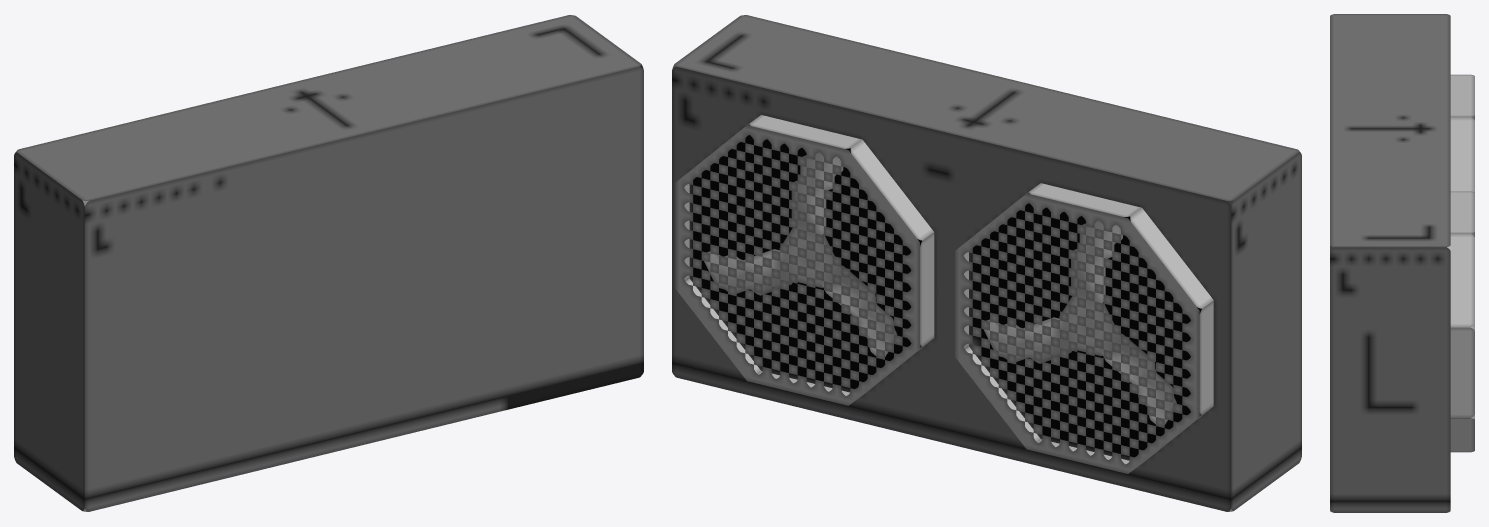
The model's file is AC_Unit.fbx.
The picture shows the model from 3 angles, left to right: view 1: azimuth 30°, elevation 25°; view 2: azimuth 150°, elevation 25°; view 3: azimuth 270°, elevation 25°; orthographic projection. The views are drawn at different scales.
Visible parts, largest first — view 1: Body; view 2: Body, FanCasing_1, FanCasing, Fan_1, Fan; view 3: Body, FanCasing_1, FanCasing.
Boxes of the visible parts, x1=… form: Body: x1=14, y1=15, x2=643, y2=511; Body: x1=672, y1=15, x2=1301, y2=511; FanCasing_1: x1=675, y1=115, x2=934, y2=405; FanCasing: x1=955, y1=183, x2=1213, y2=473; Fan_1: x1=983, y1=220, x2=1176, y2=424; Fan: x1=704, y1=152, x2=897, y2=356; Body: x1=1330, y1=14, x2=1450, y2=512; FanCasing_1: x1=1447, y1=191, x2=1474, y2=452; FanCasing: x1=1450, y1=74, x2=1474, y2=192.
Size of the model in its own units: 200 by 106 by 52.5.
1 material, 1 textured.
